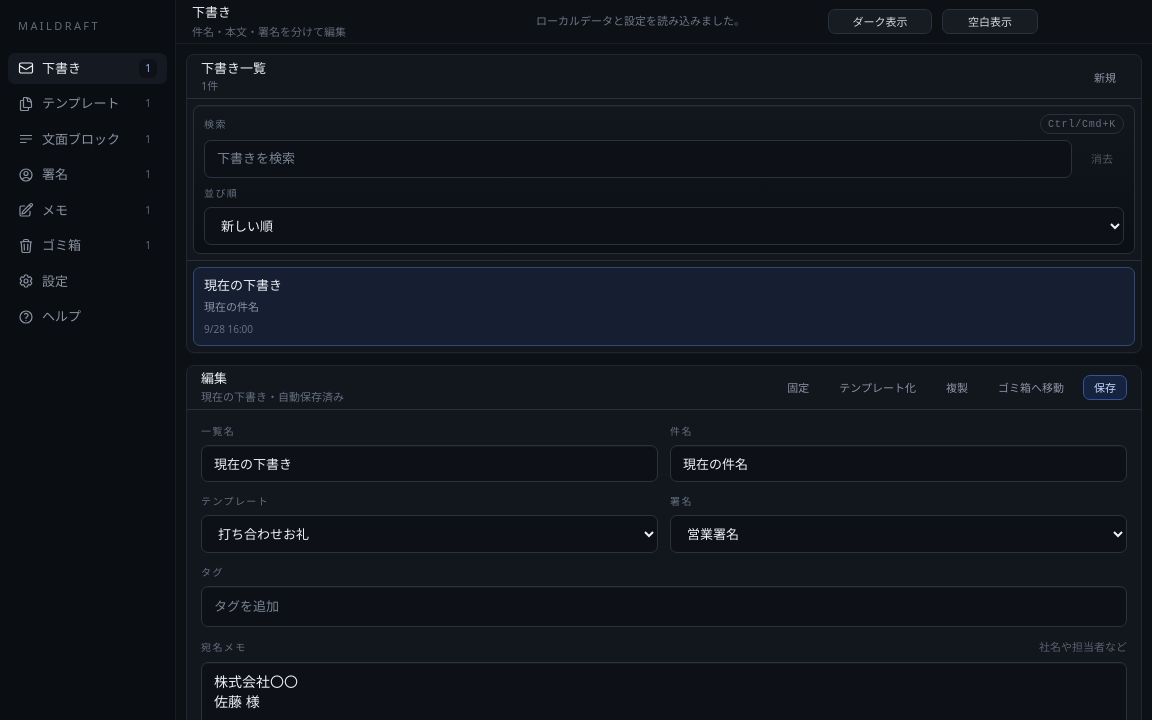
Scenario: App runtime integration › restores a trashed draft and reopens it in the drafts workspace
The width and height of the screenshot is (1152, 720).
Step 1. Click the button titled "ゴミ箱 (Ctrl/Cmd+6)" → click(88, 246), box [8,230,167,262]
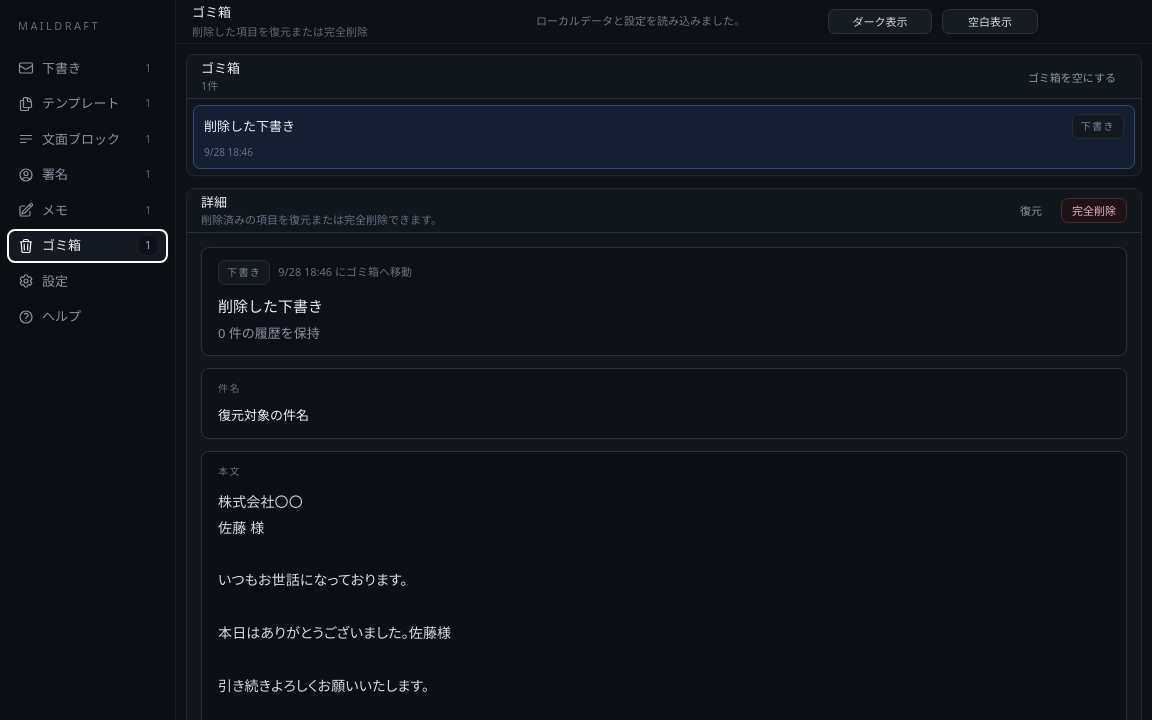
Now the text "削除した下書き" below "1件" is shown, box [204,117,295,135]
Step 2. Click the button "復元" → click(1031, 210), box [1009,198,1053,223]
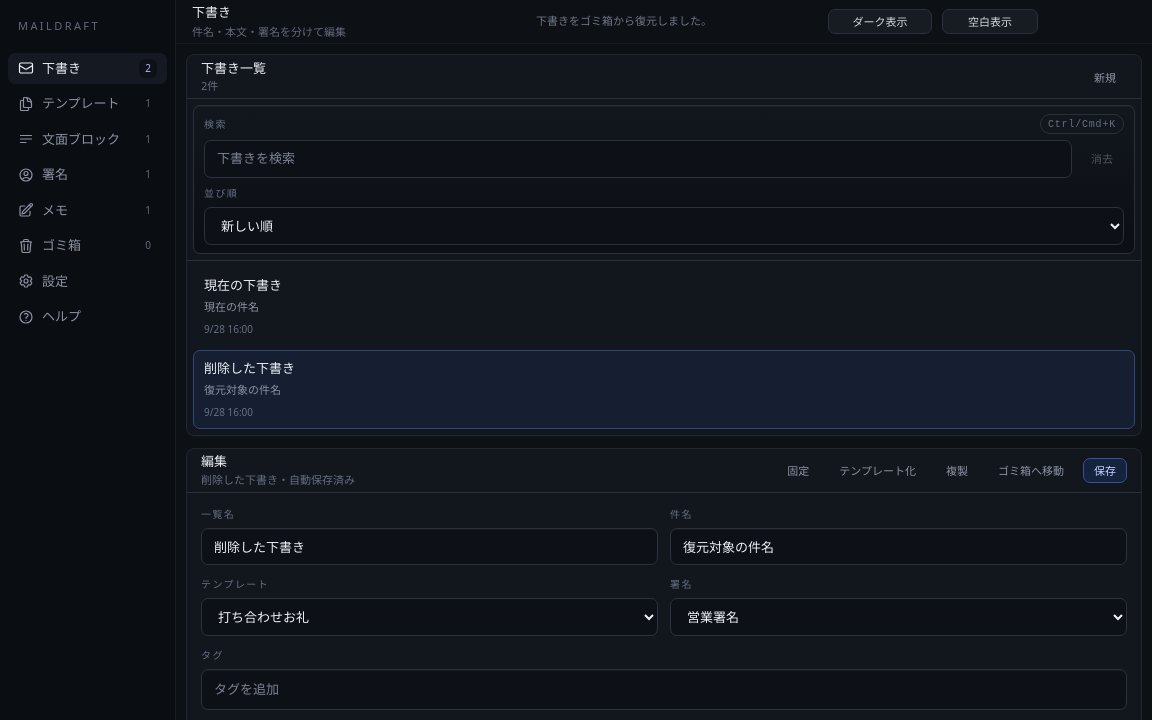
Now the text "削除した下書き" is shown, box [204,358,295,378]
Now the text "下書きをゴミ箱から復元しました。" is shown, box [536,13,712,28]
